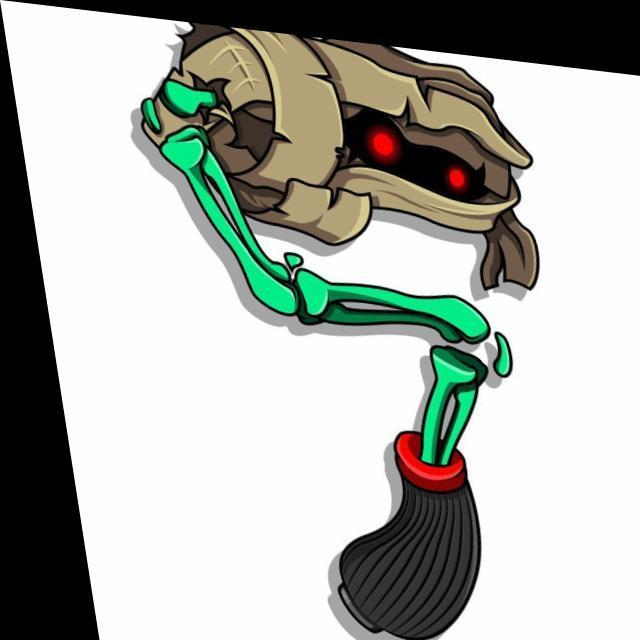-: (94, 9, 596, 640)
